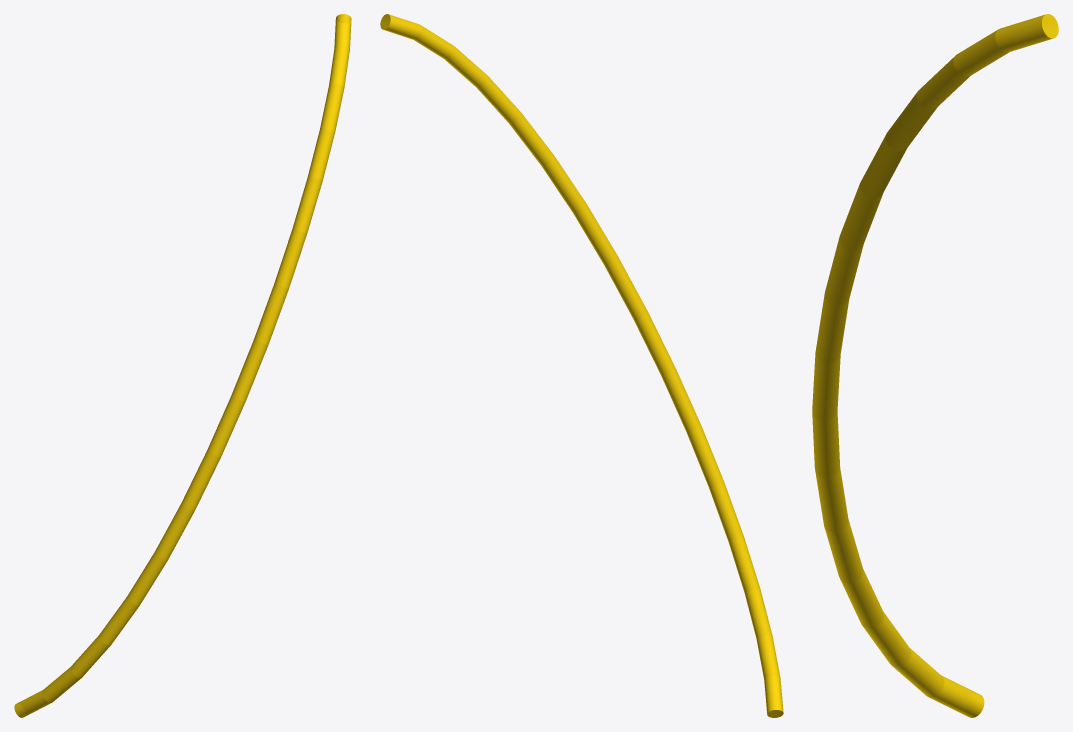
Rendered from Event_420094457_track_31.fbx.
3 renders of one model, left to right at view 1: azimuth 30°, elevation 25°; view 2: azimuth 150°, elevation 25°; view 3: azimuth 270°, elevation 25°, orthographic. The views are drawn at different scales.
Parts seen in each view (by area): view 1: Model; view 2: Model; view 3: Model.
Boxes of the visible parts, x1,y1,x2,y2 form: Model: [14, 14, 351, 717]; Model: [380, 14, 783, 717]; Model: [812, 14, 1058, 717].
Size of the model in its own units: 1.06 by 1.69 by 0.3887.
